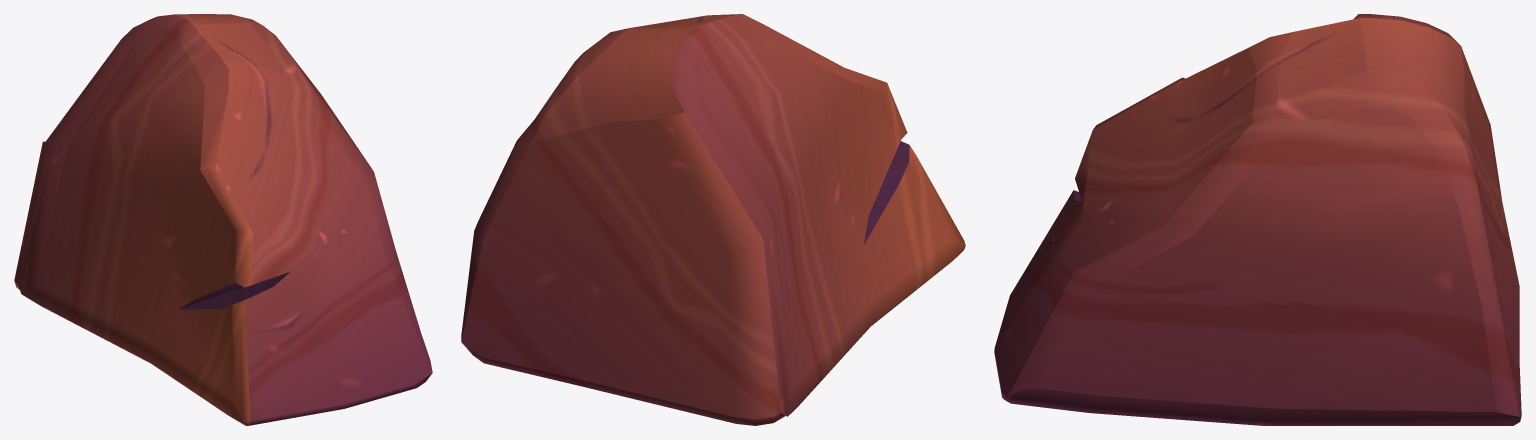
The model's file is SM_Stone_01.fbx.
3 views of the same model, side by side, from view 1: azimuth 30°, elevation 25°; view 2: azimuth 150°, elevation 25°; view 3: azimuth 270°, elevation 25° (orthographic). The views are drawn at different scales.
Parts seen in each view (by area): view 1: SM_Stone_01; view 2: SM_Stone_01; view 3: SM_Stone_01.
Part boxes in pixels (x1=…): SM_Stone_01: x1=14, y1=14, x2=432, y2=425; SM_Stone_01: x1=461, y1=14, x2=965, y2=425; SM_Stone_01: x1=994, y1=14, x2=1521, y2=425.
Size of the model in its own units: 4.61 by 4.56 by 6.47.
